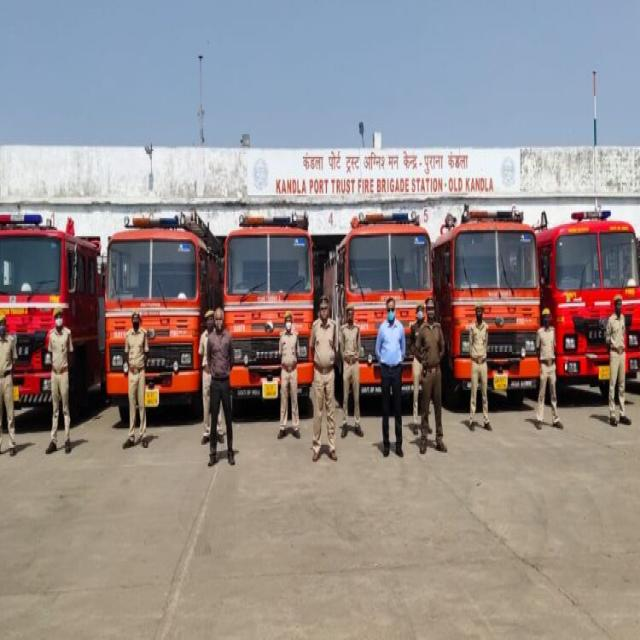emergency: (105, 214, 222, 419), (432, 208, 540, 402), (0, 214, 105, 411), (536, 208, 640, 393), (324, 217, 431, 393), (224, 219, 314, 400)
